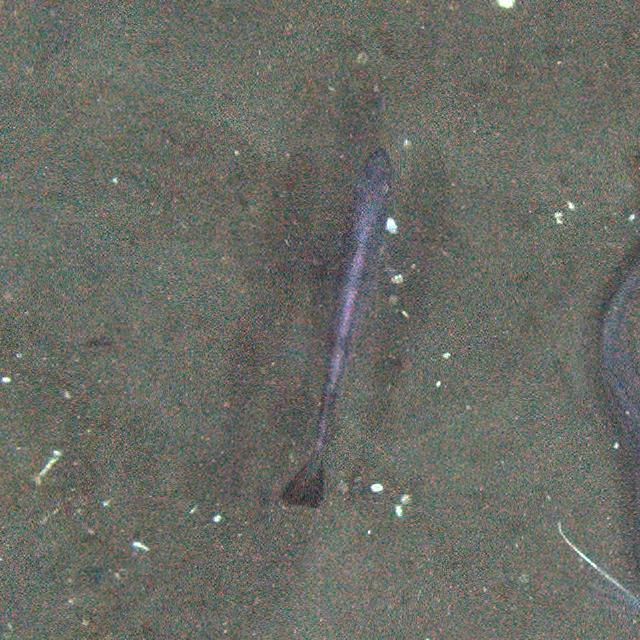roundfish: (304, 144, 393, 510)
